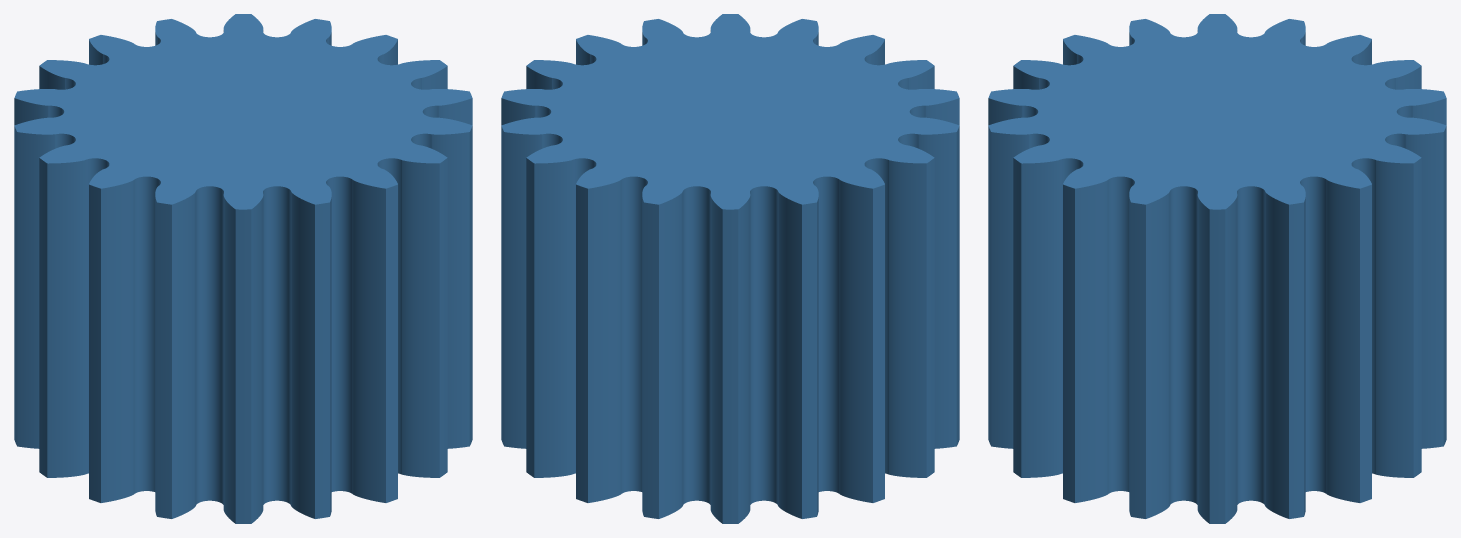
Rendered from test_spur_gear.glb.
3 views of the same model, side by side, from view 1: azimuth 30°, elevation 25°; view 2: azimuth 150°, elevation 25°; view 3: azimuth 270°, elevation 25° (orthographic).
Parts seen in each view (by area): view 1: gear; view 2: gear; view 3: gear.
Part boxes in pixels (left/top/right/bottom): gear: left=14, top=14, right=472, bottom=523; gear: left=501, top=14, right=959, bottom=523; gear: left=988, top=14, right=1446, bottom=523.
Bounding box in the file's own units: 120 × 90 × 119.
